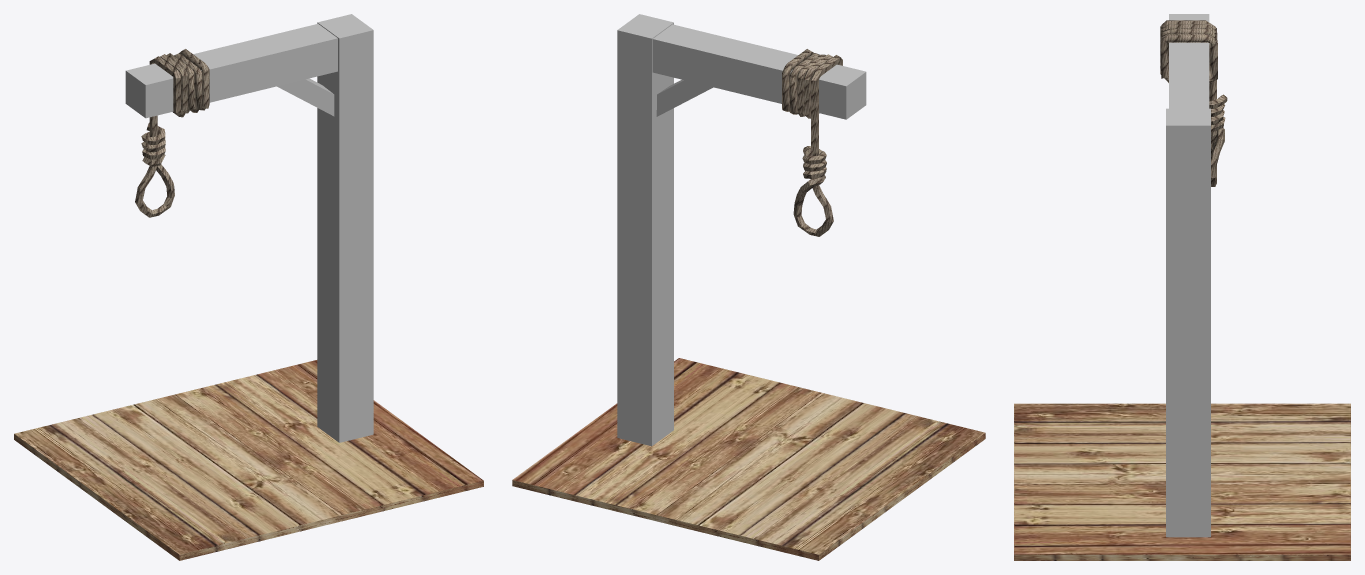
File: Potence.FBX
3 views of the same model, side by side, from view 1: azimuth 30°, elevation 25°; view 2: azimuth 150°, elevation 25°; view 3: azimuth 270°, elevation 25° (orthographic).
Parts seen in each view (by area): view 1: Potence, Corde; view 2: Potence, Corde; view 3: Potence, Corde.
Boxes of the visible parts, x1,y1,x2,y2 form: Potence: [14, 14, 483, 560]; Corde: [135, 49, 209, 217]; Potence: [512, 14, 985, 560]; Corde: [782, 49, 842, 236]; Potence: [1014, 14, 1350, 560]; Corde: [1160, 20, 1227, 186].
Bounding box in the file's own units: 106 × 139 × 99.98.
